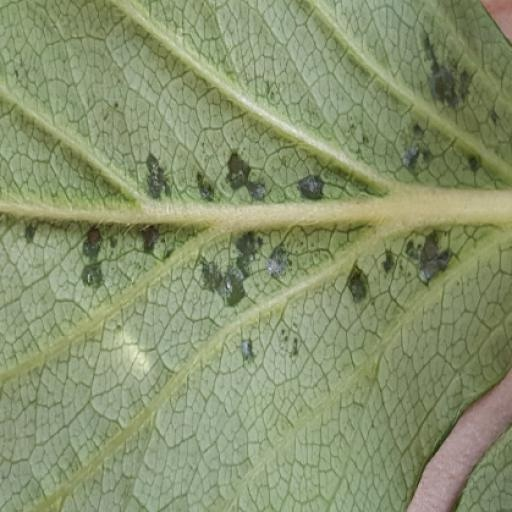Angular Leafspot: (3, 133, 501, 493)
